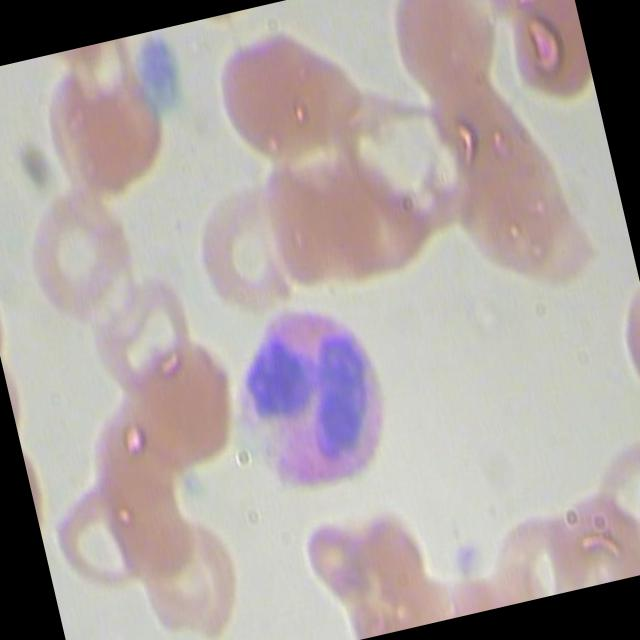Platelets: (132, 27, 192, 112), (441, 526, 492, 580)
RBC: (200, 3, 375, 176), (13, 32, 178, 210), (6, 150, 156, 330), (67, 223, 216, 404), (110, 314, 259, 494), (170, 159, 318, 340), (308, 123, 436, 287), (486, 136, 614, 300), (90, 437, 216, 592), (40, 457, 166, 612), (72, 368, 198, 522), (126, 495, 253, 640), (368, 0, 519, 121), (486, 0, 598, 118), (476, 495, 584, 606), (554, 477, 640, 588), (576, 419, 640, 554)
WBC: (213, 278, 420, 525)
